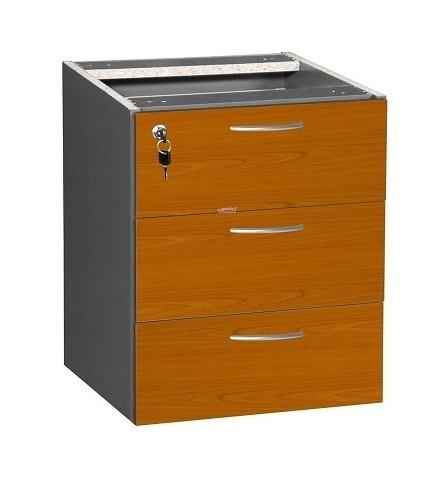cabinet_door: (137, 209, 384, 309), (137, 108, 386, 207), (138, 310, 382, 410)
handle: (226, 324, 304, 349), (226, 218, 304, 241), (225, 117, 305, 138)
